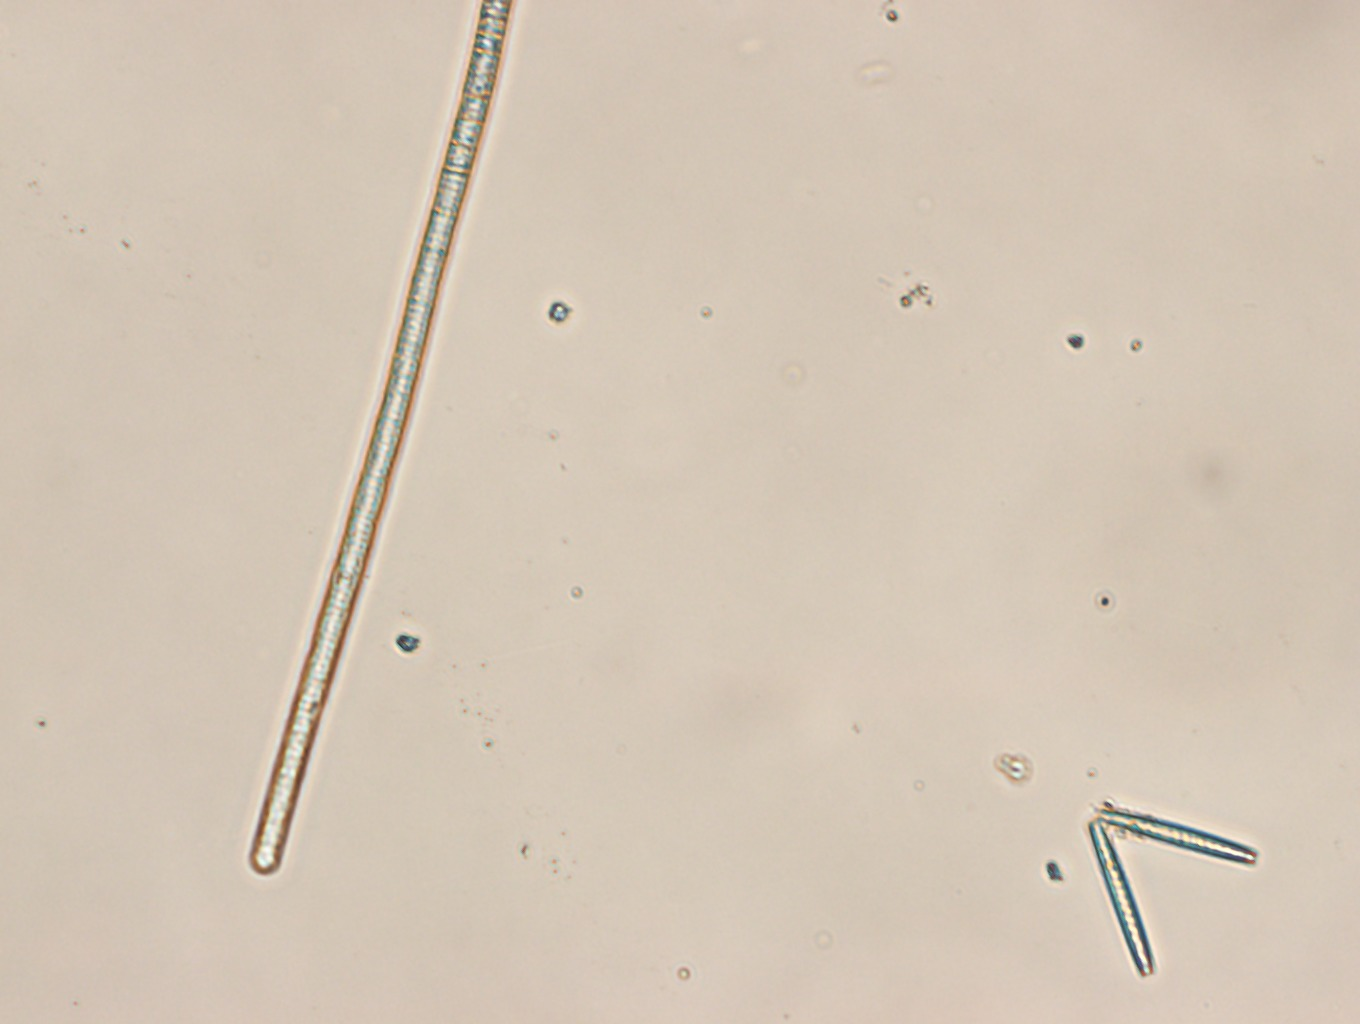thalassionema nitzschioides: (1085, 805, 1259, 979)
